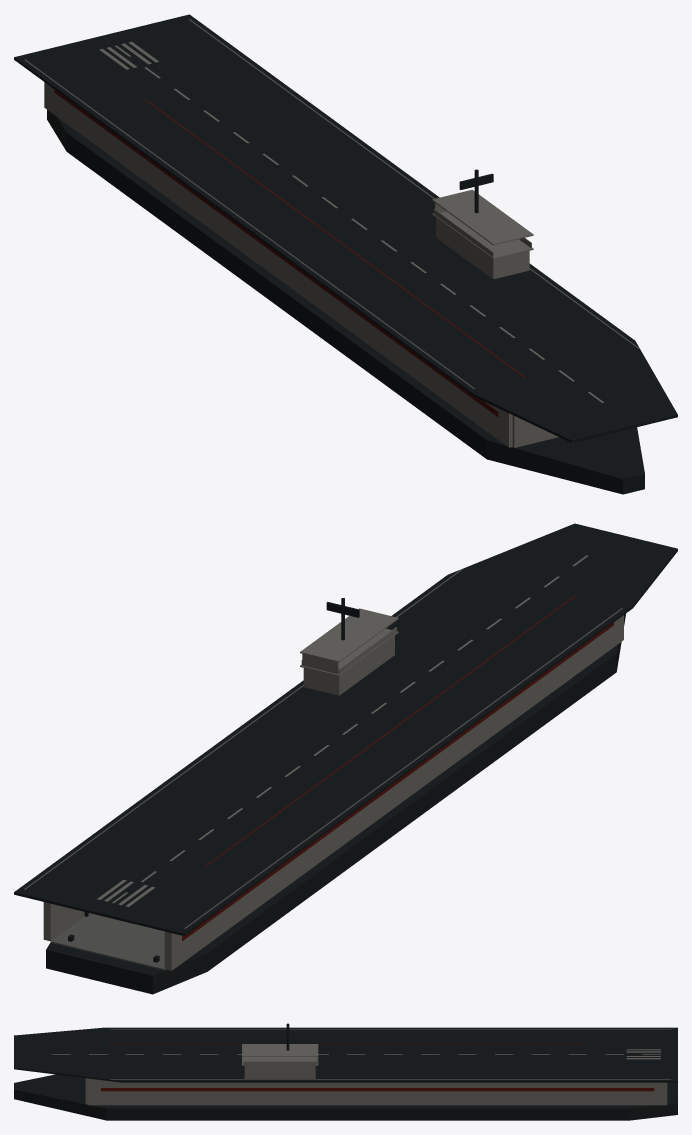
3 views of the same model, one above another, from view 1: azimuth 30°, elevation 25°; view 2: azimuth 150°, elevation 25°; view 3: azimuth 270°, elevation 25° (orthographic). The views are drawn at different scales.
Parts seen in each view (by area): view 1: carrier-flight-deck-painted, aircraft-carrier-fleet-machine, aircraft-carrier-fleet-armor, aircraft-carrier-fleet-red; view 2: carrier-flight-deck-painted, aircraft-carrier-fleet-armor, aircraft-carrier-fleet-machine, aircraft-carrier-fleet-edge, aircraft-carrier-fleet-red; view 3: carrier-flight-deck-painted, aircraft-carrier-fleet-armor, aircraft-carrier-fleet-machine, aircraft-carrier-fleet-red.
Part boxes in pixels (<box>): carrier-flight-deck-painted: <box>14,14,677,442</box>; aircraft-carrier-fleet-machine: <box>47,110,644,494</box>; aircraft-carrier-fleet-armor: <box>44,82,558,447</box>; aircraft-carrier-fleet-red: <box>54,90,498,417</box>; carrier-flight-deck-painted: <box>14,523,677,936</box>; aircraft-carrier-fleet-armor: <box>43,608,623,970</box>; aircraft-carrier-fleet-machine: <box>46,598,625,994</box>; aircraft-carrier-fleet-edge: <box>50,913,165,970</box>; aircraft-carrier-fleet-red: <box>182,622,613,941</box>; carrier-flight-deck-painted: <box>14,1027,677,1082</box>; aircraft-carrier-fleet-armor: <box>85,1044,667,1105</box>; aircraft-carrier-fleet-machine: <box>14,1023,677,1120</box>; aircraft-carrier-fleet-red: <box>101,1088,654,1091</box>.
Size of the model in its own units: 253 by 205 by 1326.
